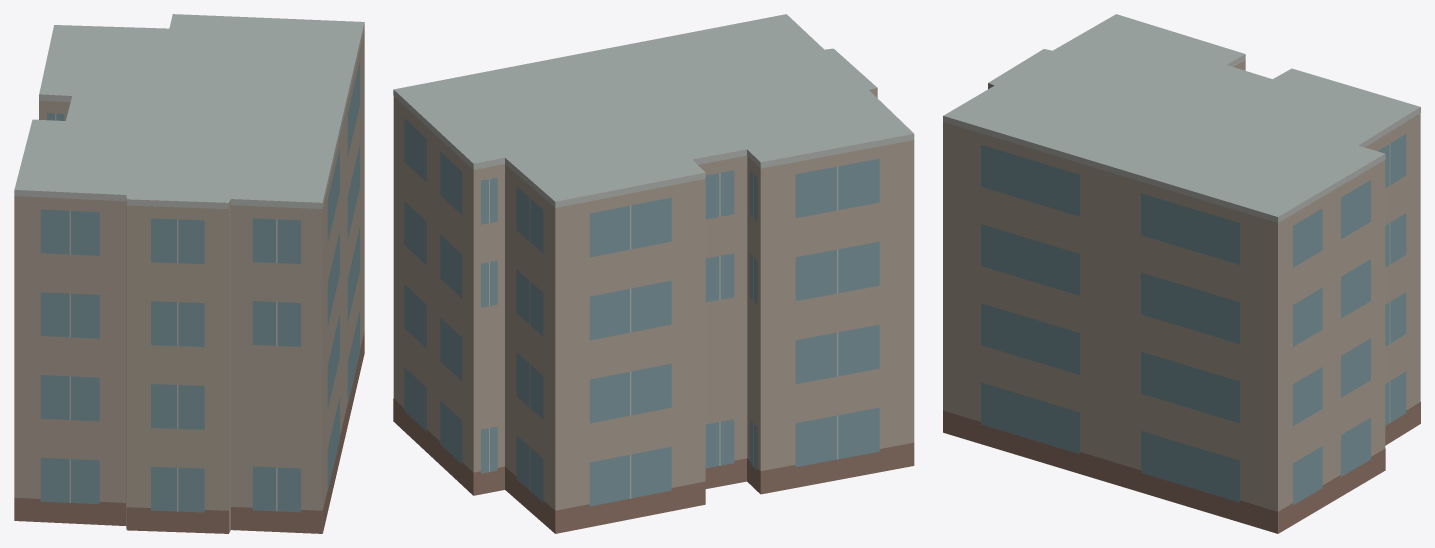
The model's file is survey-upis-32840632.glb.
3 renders of one model, left to right at view 1: azimuth 30°, elevation 25°; view 2: azimuth 150°, elevation 25°; view 3: azimuth 270°, elevation 25°, orthographic. The views are drawn at different scales.
Parts seen in each view (by area): view 1: survey-upis-32840632.tmp; view 2: survey-upis-32840632.tmp; view 3: survey-upis-32840632.tmp.
Part boxes in pixels (box(x1,y1,x2,y2)): survey-upis-32840632.tmp: box(14, 14, 364, 533); survey-upis-32840632.tmp: box(393, 14, 914, 533); survey-upis-32840632.tmp: box(943, 14, 1420, 533).
Bounding box in the file's own units: 17.88 × 13 × 17.77.
